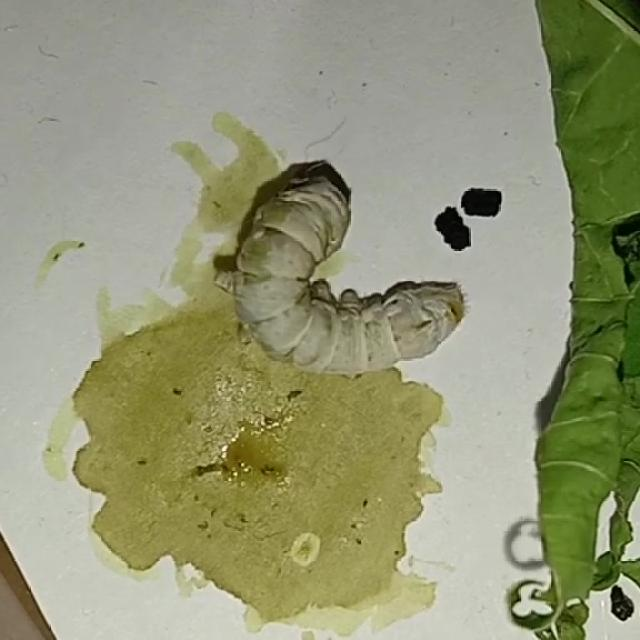Grasserie: (188, 127, 492, 407)
